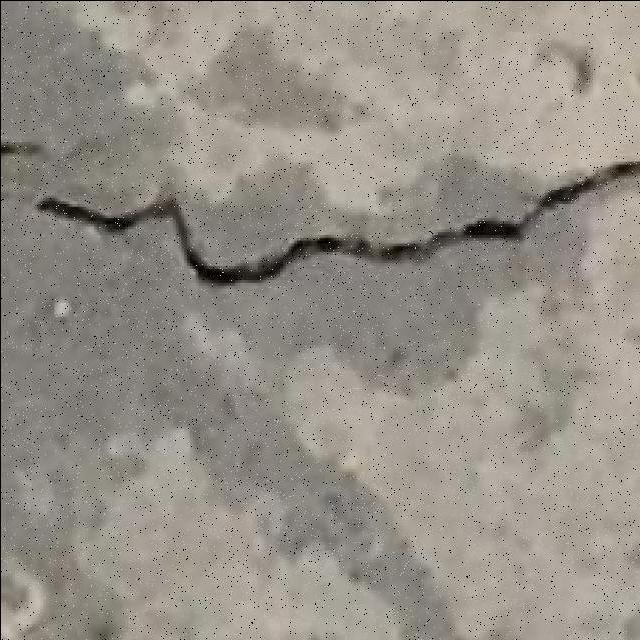crack: (35, 158, 638, 284), (36, 193, 173, 232)
